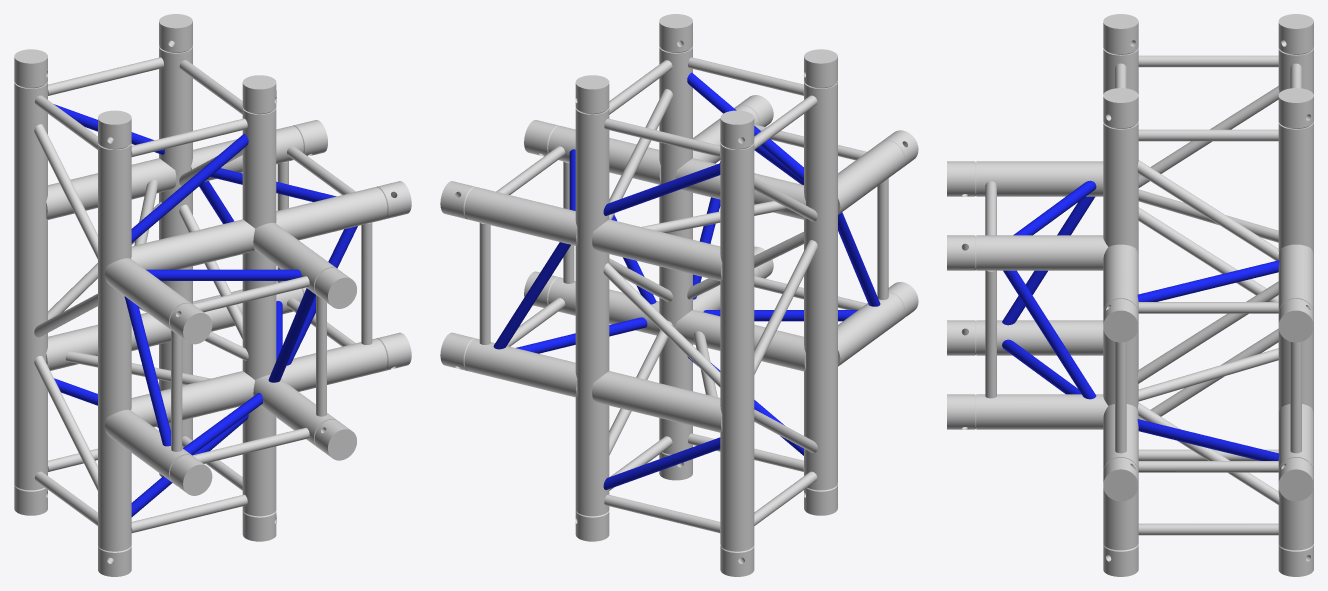
3 views of the same model, side by side, from view 1: azimuth 30°, elevation 25°; view 2: azimuth 150°, elevation 25°; view 3: azimuth 270°, elevation 25° (orthographic). The views are drawn at different scales.
Visible parts, largest first — view 1: 260028011; view 2: 260028011; view 3: 260028011.
Boxes of the visible parts, x1,y1,x2,y2 form: 260028011: (14, 14, 411, 576); 260028011: (440, 14, 918, 576); 260028011: (947, 14, 1313, 576).
Size of the model in its own units: 0.5002 by 0.713 by 0.5001.
